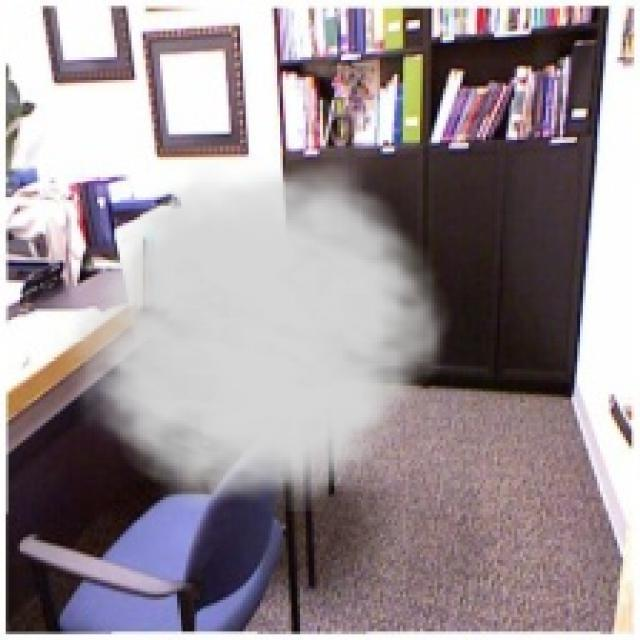Smoke: (54, 148, 463, 512)
